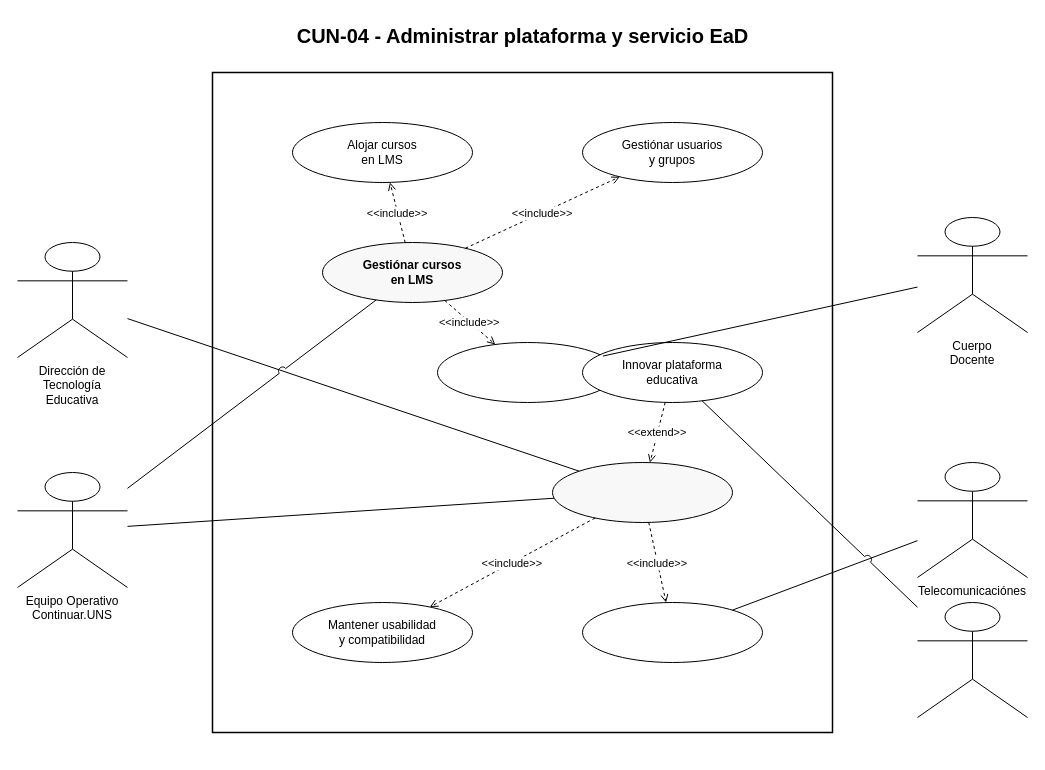
Some shapes in this 1045 by 770 pixel diagram are drawn without their labels. Each missing label, with the box of its shape:
Administrar plataforma y servicio EaD: (211, 71, 833, 733)
Autoridades UNS: (916, 602, 1028, 718)
Brindar soporte tecnológico: (582, 602, 762, 662)
Habilitar comunicación: (436, 342, 618, 402)
Mantener servicio tecnológico EaD: (552, 462, 732, 522)
